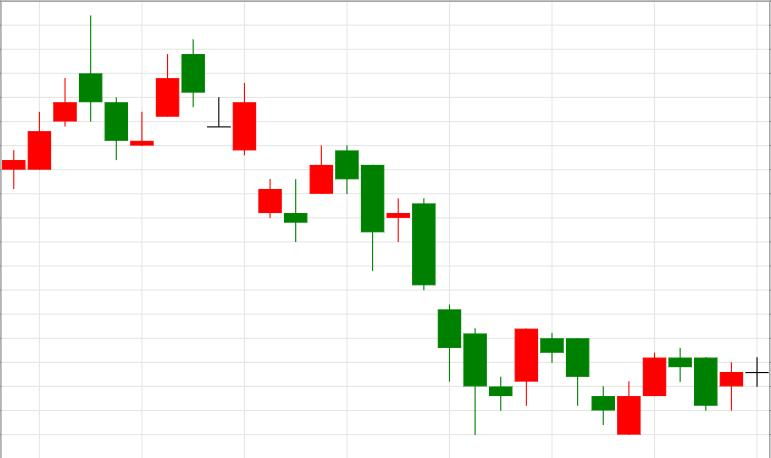morning_star_rise: (335, 145, 537, 435)
